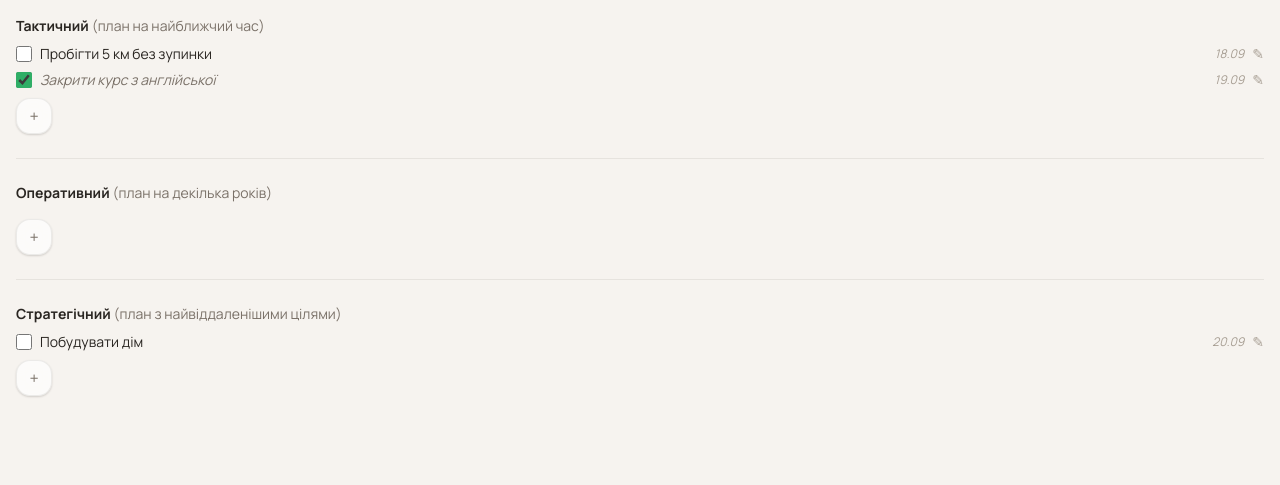
збій збереження чекбокса: показує помилку і повертає чекбокс у попередній стан
The width and height of the screenshot is (1280, 485).
Expected: the text "Пробігти 5 км без зупинки" is shown, [40,44,212,63]
What coordinates should you click on to do the following:
click the checkbox named "Пробігти 5 км без зупинки"
I would click on:
 (24, 54)
Its box is [16,46,32,62].
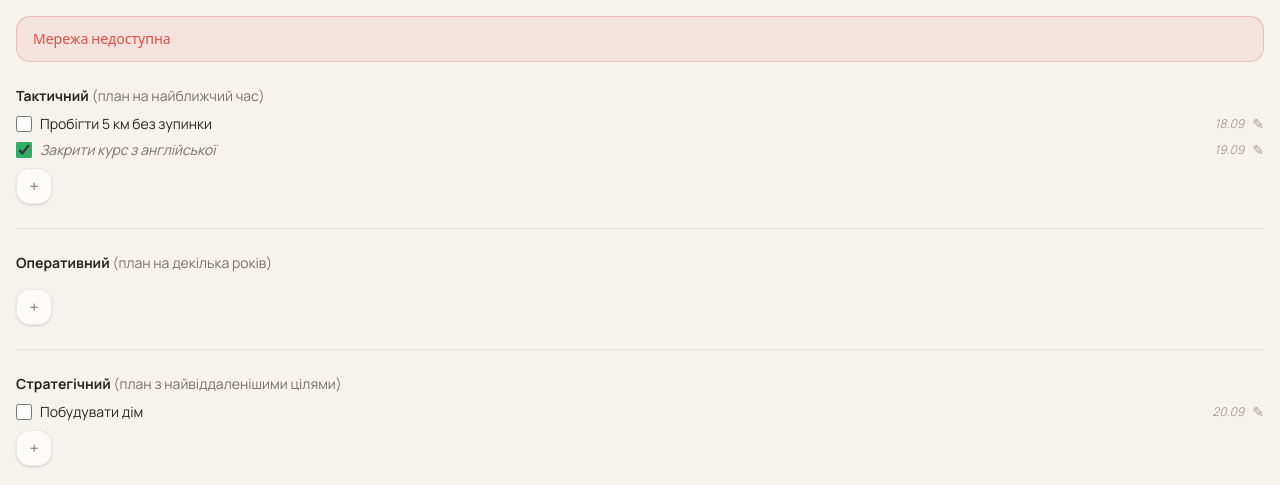
Expected: the checkbox named "Пробігти 5 км без зупинки" is not checked, [16,116,32,132]
Now the text "Мережа недоступна" is shown, box [16,16,1264,62]
